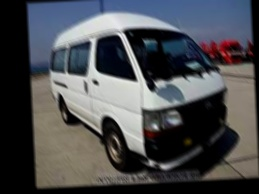van: (42, 7, 231, 173)
